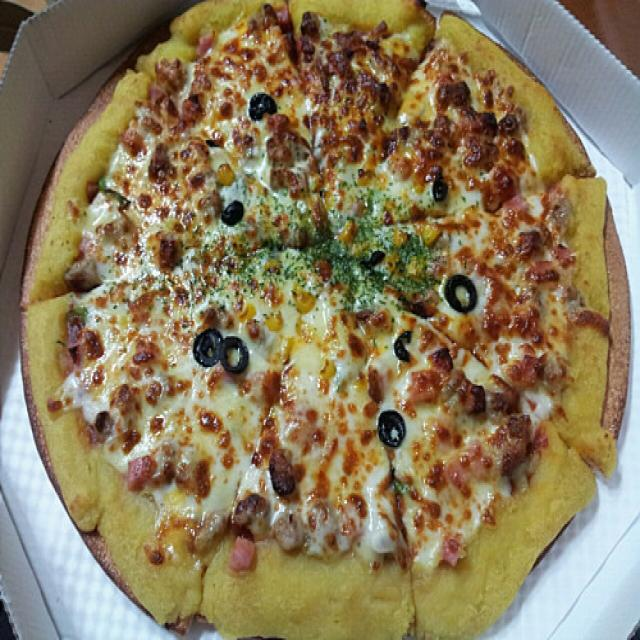Wet Waste: (13, 0, 634, 640)
